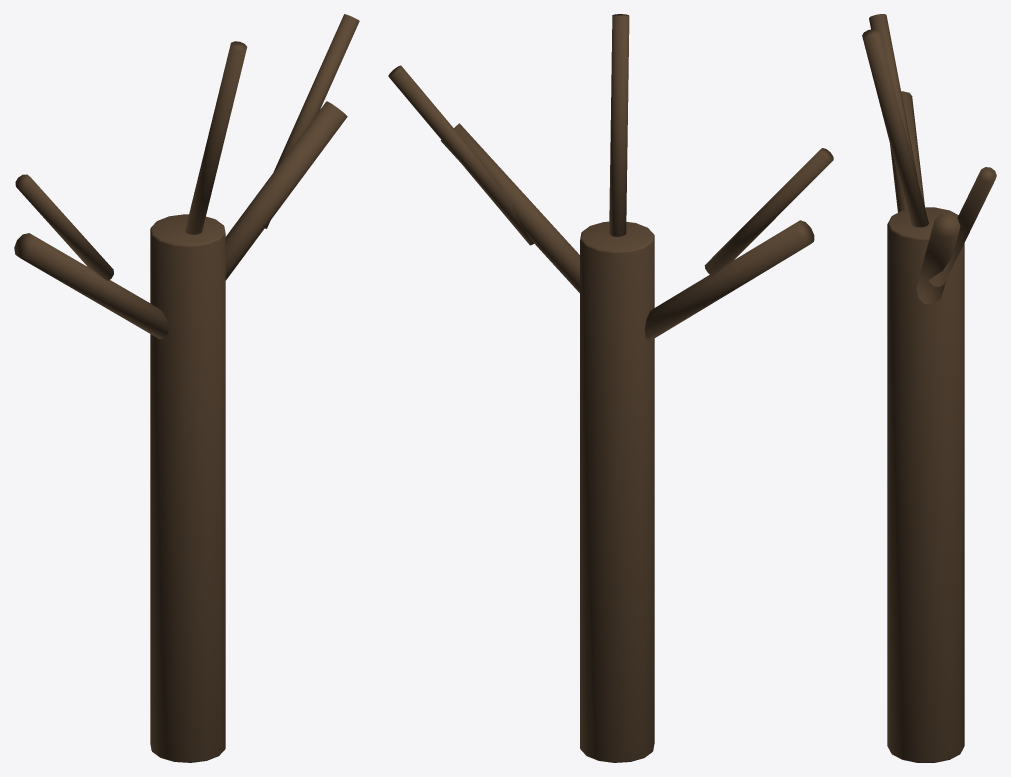
The model's file is dead_tree.glb.
3 views of the same model, side by side, from view 1: azimuth 30°, elevation 25°; view 2: azimuth 150°, elevation 25°; view 3: azimuth 270°, elevation 25° (orthographic). The views are drawn at different scales.
Parts seen in each view (by area): view 1: TreeTrunk, DeadBranch1, DeadBranch0, DeadBranch4, DeadBranch3, DeadBranch2; view 2: TreeTrunk, DeadBranch0, DeadBranch4, DeadBranch1, DeadBranch3, DeadBranch2; view 3: TreeTrunk, DeadBranch4, DeadBranch1, DeadBranch3, DeadBranch2, DeadBranch0.
Boxes of the visible parts, x1,y1,x2,y2 form: TreeTrunk: (150,214,225,762); DeadBranch1: (225,101,347,280); DeadBranch0: (14,233,168,339); DeadBranch4: (185,41,247,234); DeadBranch3: (265,14,359,228); DeadBranch2: (15,174,113,280); TreeTrunk: (580,221,654,762); DeadBranch0: (644,220,814,341); DeadBranch4: (609,14,629,236); DeadBranch1: (440,123,579,292); DeadBranch3: (388,65,533,245); DeadBranch2: (704,148,833,276); TreeTrunk: (887,207,964,762); DeadBranch4: (862,29,928,227); DeadBranch1: (916,213,960,304); DeadBranch3: (929,167,996,286); DeadBranch2: (869,14,917,199); DeadBranch0: (890,91,924,212).
Size of the model in its own units: 3.35 by 5.82 by 0.9769.
